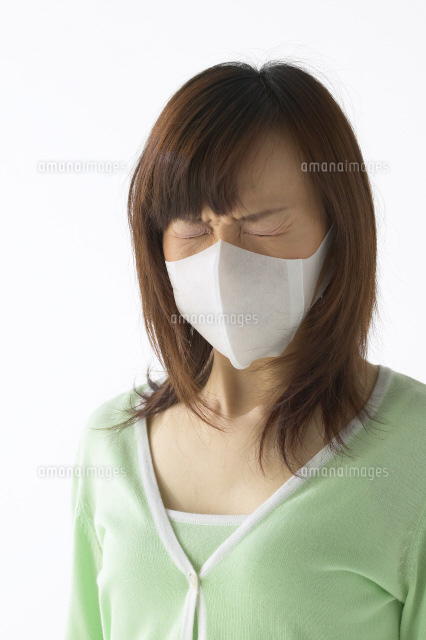mask: (164, 261, 323, 356)
